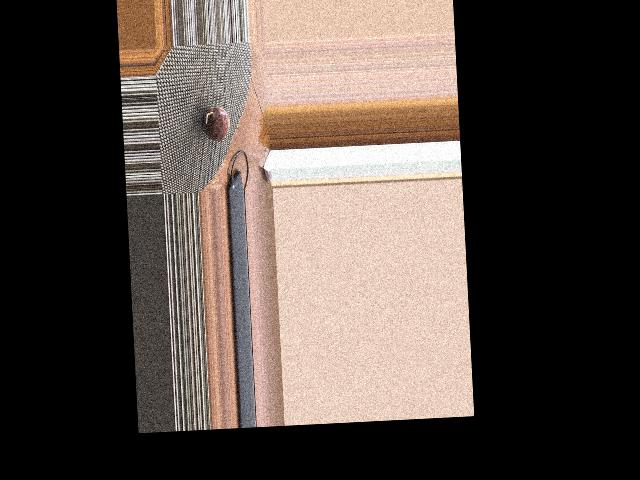beet: (202, 106, 230, 142)
